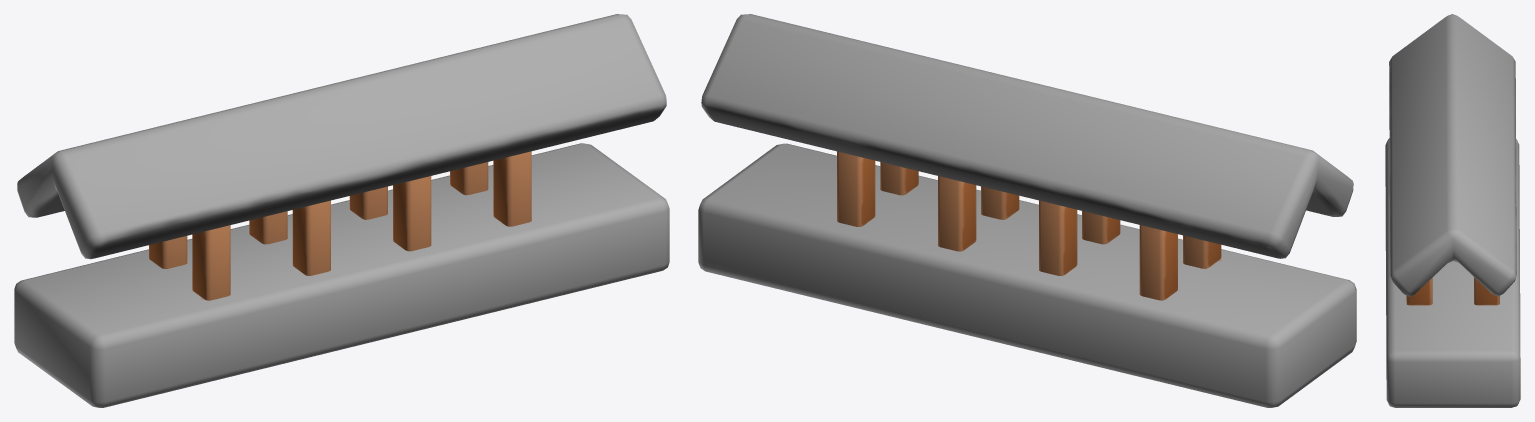
Rendered from bridge.fbx.
3 renders of one model, left to right at view 1: azimuth 30°, elevation 25°; view 2: azimuth 150°, elevation 25°; view 3: azimuth 270°, elevation 25°, orthographic. The views are drawn at different scales.
Visible parts, largest first — view 1: bridge; view 2: bridge; view 3: bridge.
Part boxes in pixels (x1=…): bridge: x1=14, y1=14, x2=669, y2=407; bridge: x1=698, y1=14, x2=1356, y2=407; bridge: x1=1385, y1=14, x2=1520, y2=407.
Size of the model in its own units: 477 by 180 by 123.
1 material, 1 textured.
